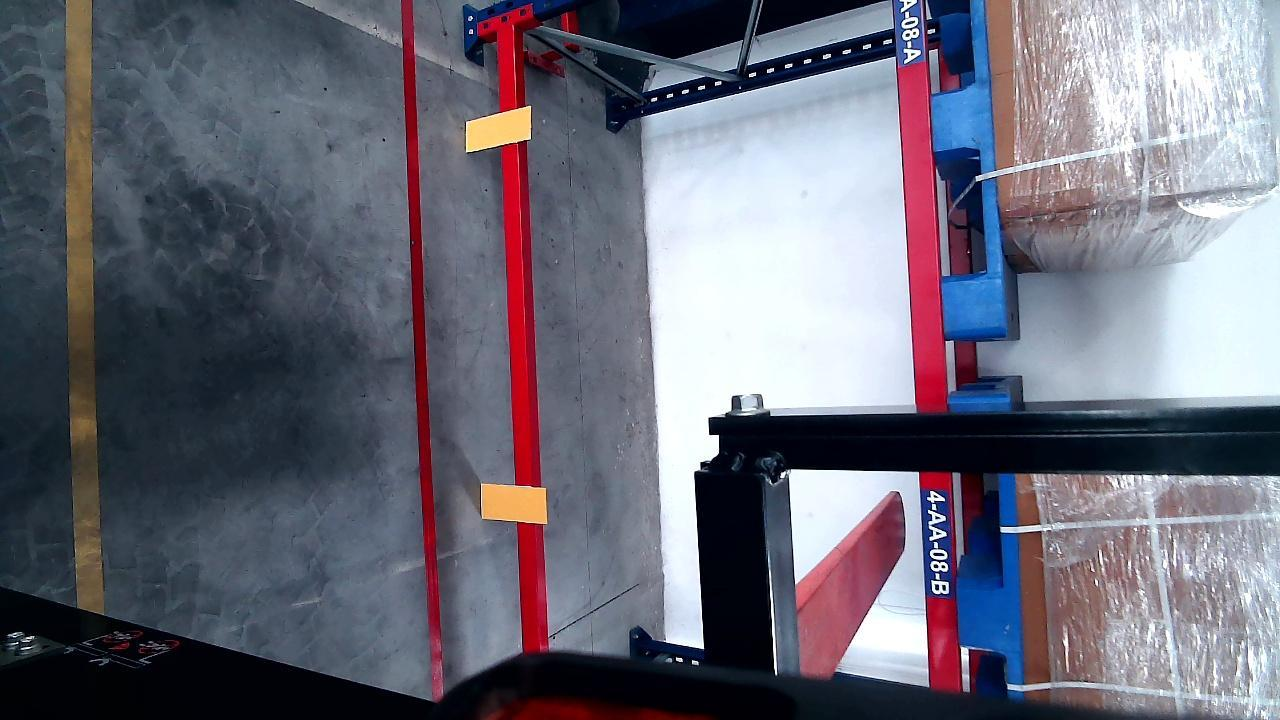red_line: (396, 2, 446, 697)
